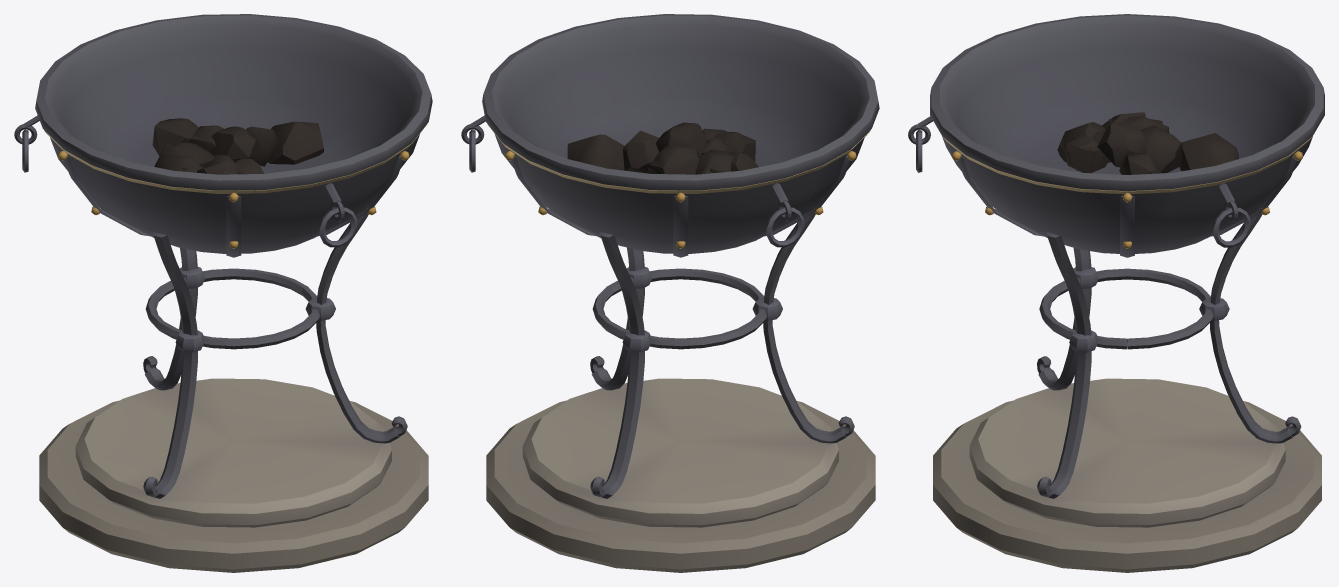
Rendered from pr_brazier.glb.
3 renders of one model, left to right at view 1: azimuth 30°, elevation 25°; view 2: azimuth 150°, elevation 25°; view 3: azimuth 270°, elevation 25°, orthographic.
Parts seen in each view (by area): view 1: PR_brazier__body, PR_brazier__coal; view 2: PR_brazier__body, PR_brazier__coal; view 3: PR_brazier__body, PR_brazier__coal.
Part boxes in pixels (x1=…): PR_brazier__body: x1=14, y1=14, x2=432, y2=572; PR_brazier__coal: x1=152, y1=118, x2=323, y2=174; PR_brazier__body: x1=461, y1=14, x2=879, y2=572; PR_brazier__coal: x1=567, y1=122, x2=758, y2=174; PR_brazier__body: x1=908, y1=14, x2=1324, y2=572; PR_brazier__coal: x1=1057, y1=112, x2=1238, y2=174.
Bounding box in the file's own units: 1.64 × 1.77 × 1.69.
